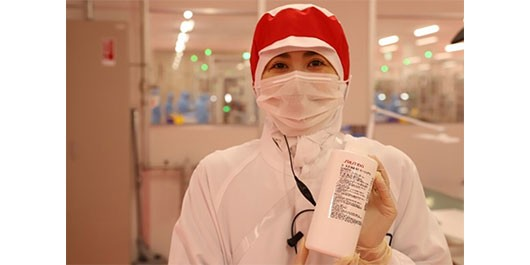Coverall: (165, 4, 453, 265)
Gloves: (356, 158, 398, 258)
with_mask: (255, 51, 344, 137)
